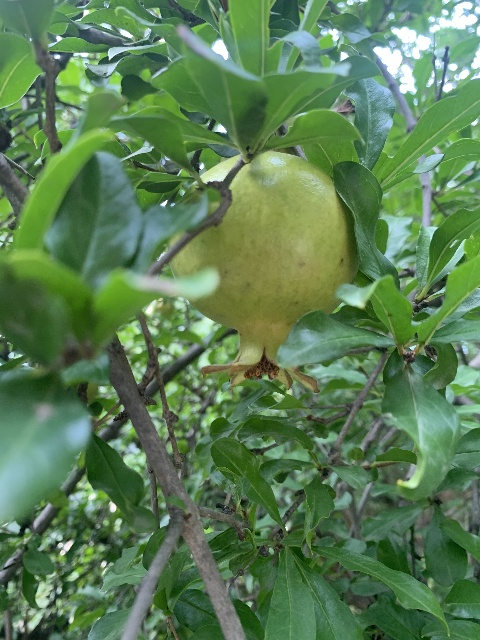mid-growth: (171, 151, 357, 393)
